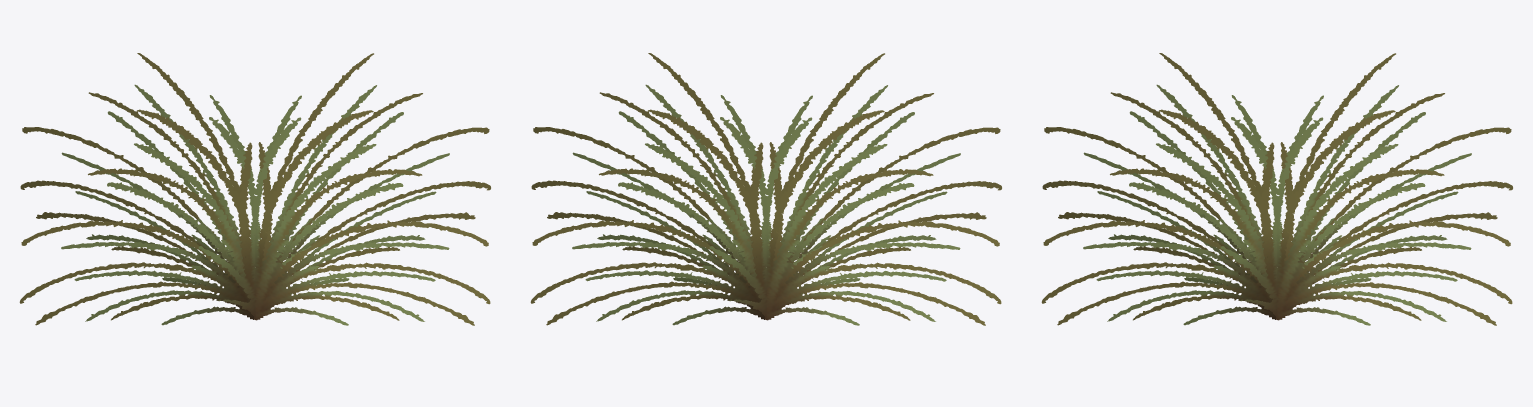
Rendered from painted-weed-043.glb.
3 renders of one model, left to right at view 1: azimuth 30°, elevation 25°; view 2: azimuth 150°, elevation 25°; view 3: azimuth 270°, elevation 25°, orthographic.
Bounding box in the file's own units: 15.66 × 7.88 × 13.58.
1 material, 1 textured.
